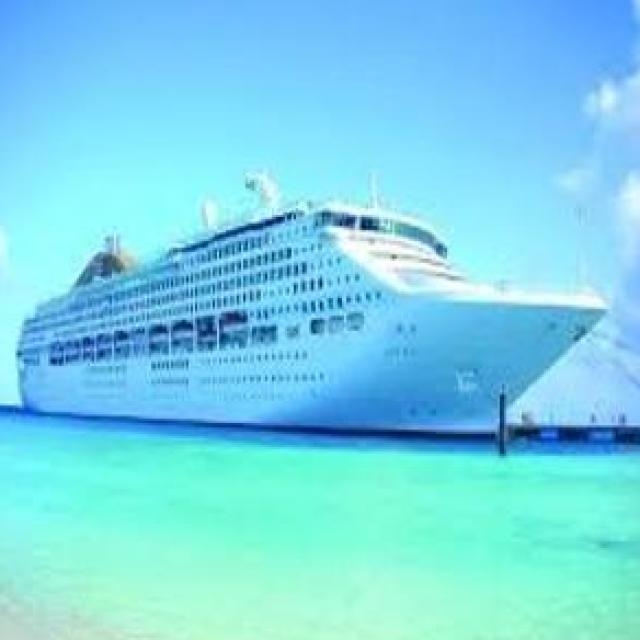passenger ship: (5, 198, 612, 422)
